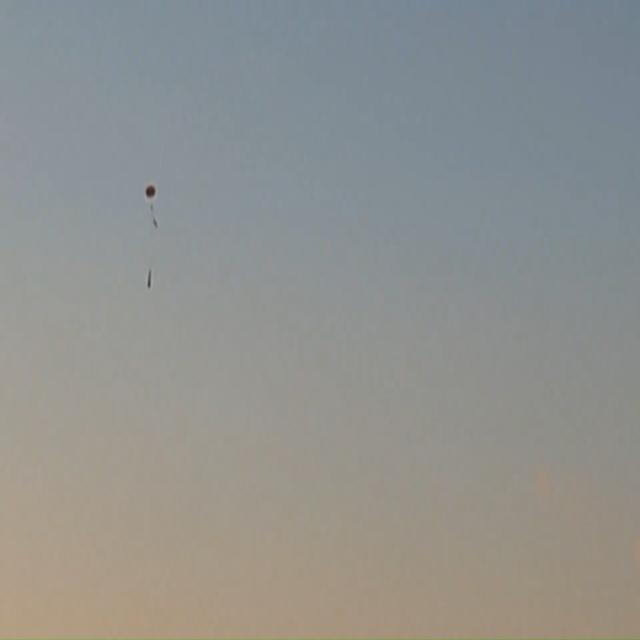Rocket: (147, 269, 152, 288)
